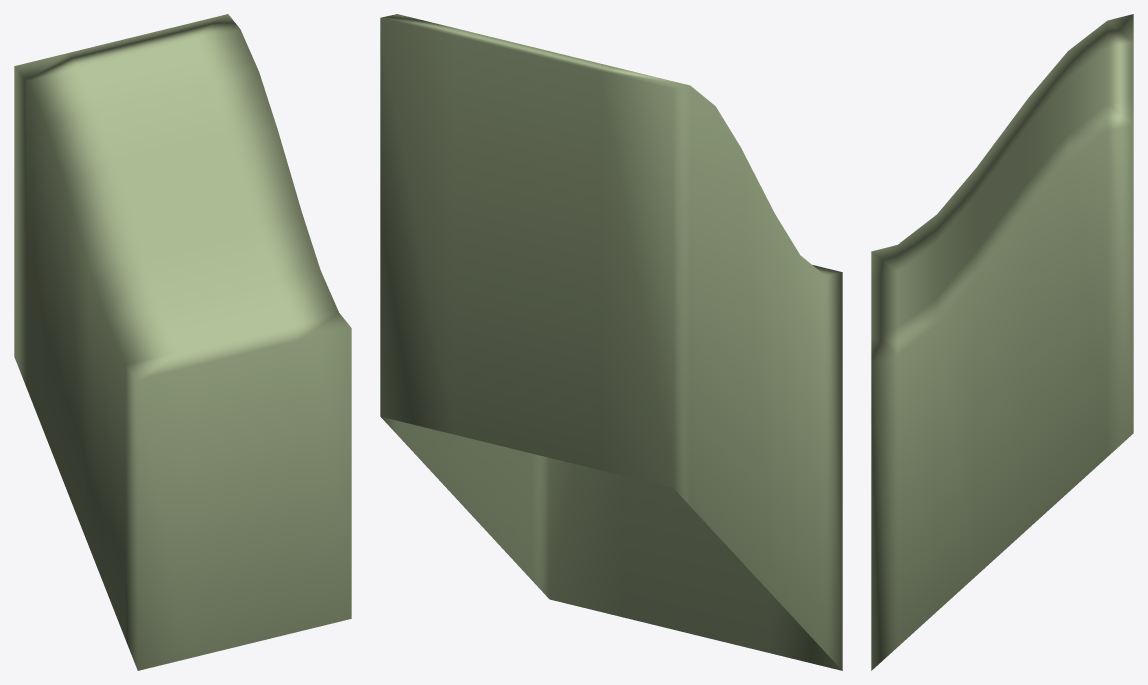
The model's file is ground-ramp-00.glb.
The picture shows the model from 3 angles, left to right: view 1: azimuth 30°, elevation 25°; view 2: azimuth 150°, elevation 25°; view 3: azimuth 270°, elevation 25°; orthographic projection. The views are drawn at different scales.
Visible parts, largest first — view 1: ground-ramp-00; view 2: ground-ramp-00; view 3: ground-ramp-00.
Boxes of the visible parts, x1,y1,x2,y2 form: ground-ramp-00: [14, 14, 351, 670]; ground-ramp-00: [380, 14, 842, 670]; ground-ramp-00: [871, 14, 1133, 670].
Size of the model in its own units: 1 by 2.3 by 1.
